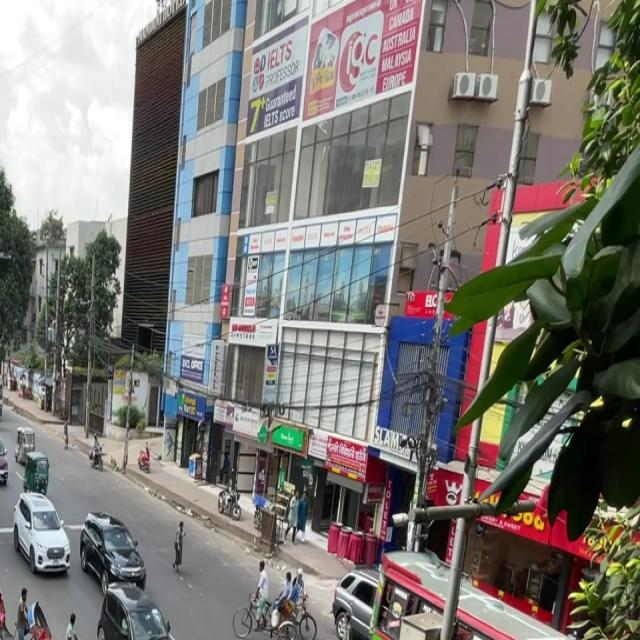car: (76, 509, 150, 600), (8, 488, 75, 576), (91, 581, 190, 640), (325, 568, 394, 640), (0, 428, 10, 487)
motorbike: (137, 441, 156, 477)
